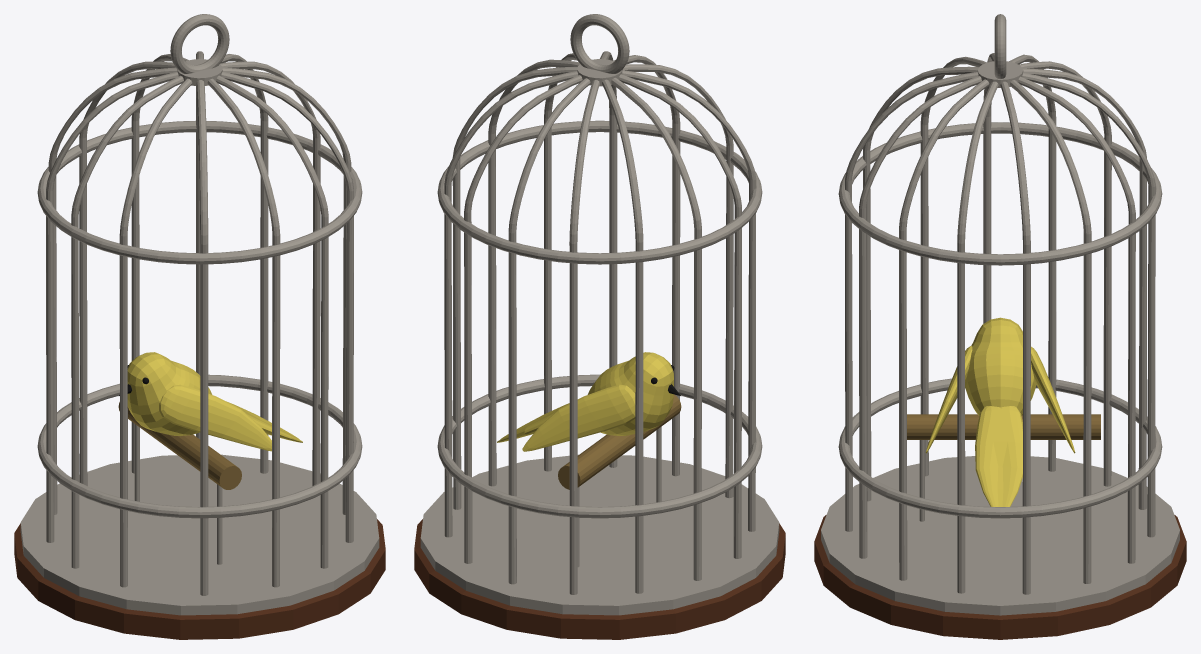
File: BirdCage.fbx
The picture shows the model from 3 angles, left to right: view 1: azimuth 30°, elevation 25°; view 2: azimuth 150°, elevation 25°; view 3: azimuth 270°, elevation 25°; orthographic projection.
Visible parts, largest first — view 1: Cube; view 2: Cube; view 3: Cube.
Boxes of the visible parts, bbox=[...] form: Cube: bbox=[14, 14, 385, 639]; Cube: bbox=[414, 14, 785, 639]; Cube: bbox=[814, 14, 1186, 639].
Bounding box in the file's own units: 348 × 562 × 348.
